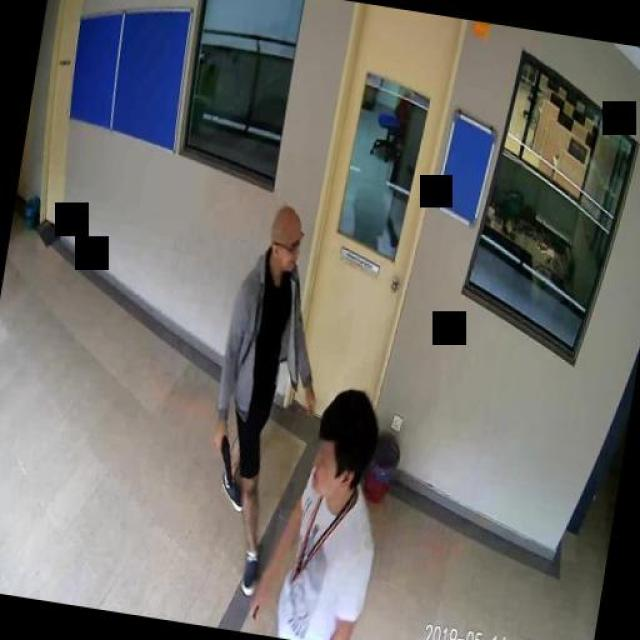gun: (208, 428, 238, 483)
